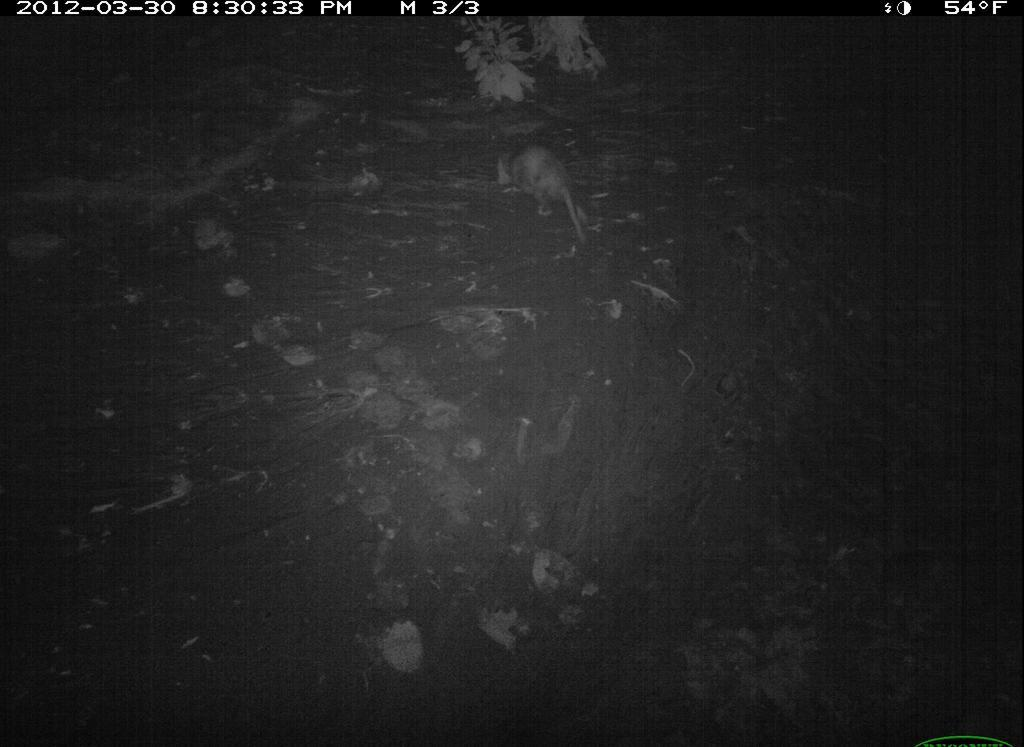opossum: (488, 141, 594, 249)
